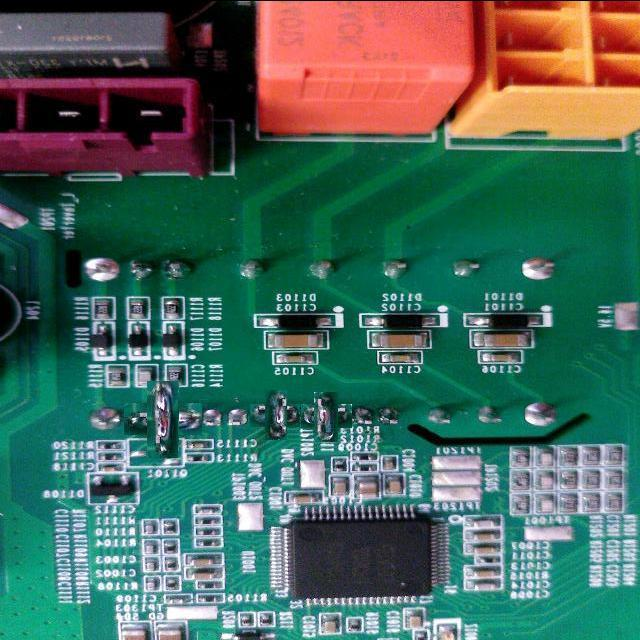Short_circuit: (136, 392, 190, 447), (257, 397, 294, 434), (308, 398, 345, 435)
